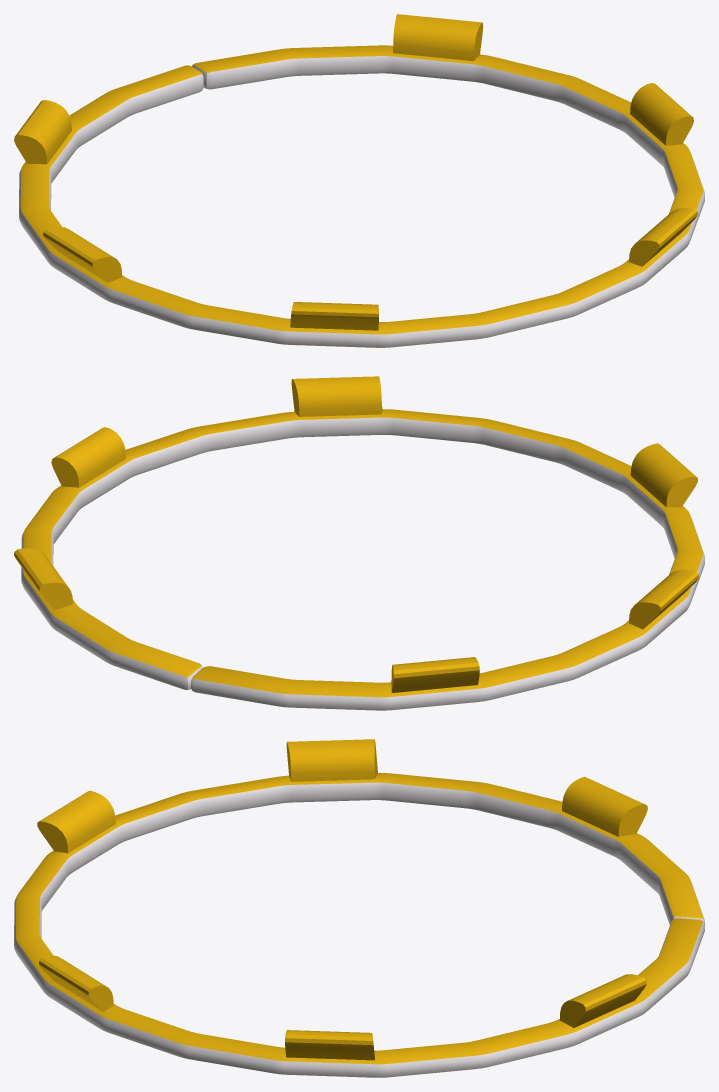
Rendered from Ring.fbx.
3 views of the same model, one above another, from view 1: azimuth 30°, elevation 25°; view 2: azimuth 150°, elevation 25°; view 3: azimuth 270°, elevation 25° (orthographic).
Parts seen in each view (by area): view 1: CannonBase.001; view 2: CannonBase.001; view 3: CannonBase.001.
Boxes of the visible parts, x1,y1,x2,y2 form: CannonBase.001: (14,14,704,347); CannonBase.001: (14,376,704,710); CannonBase.001: (14,739,704,1077).
Size of the model in its own units: 23700 by 1695 by 22991.
